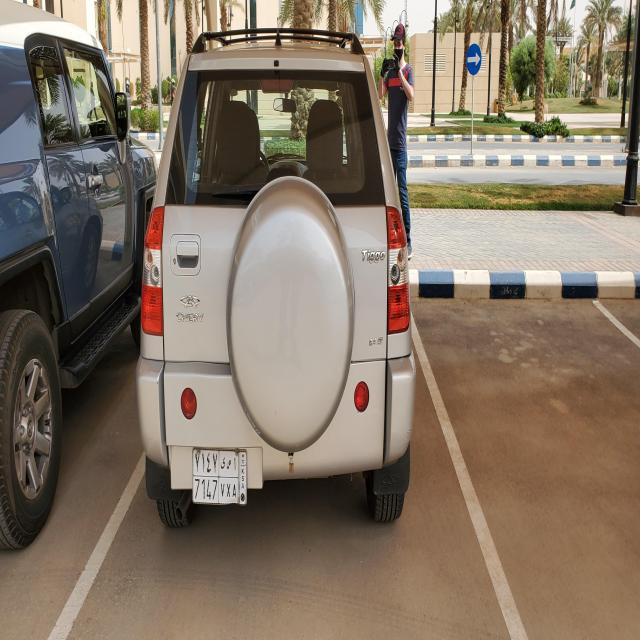license_plate: (192, 447, 246, 507)
